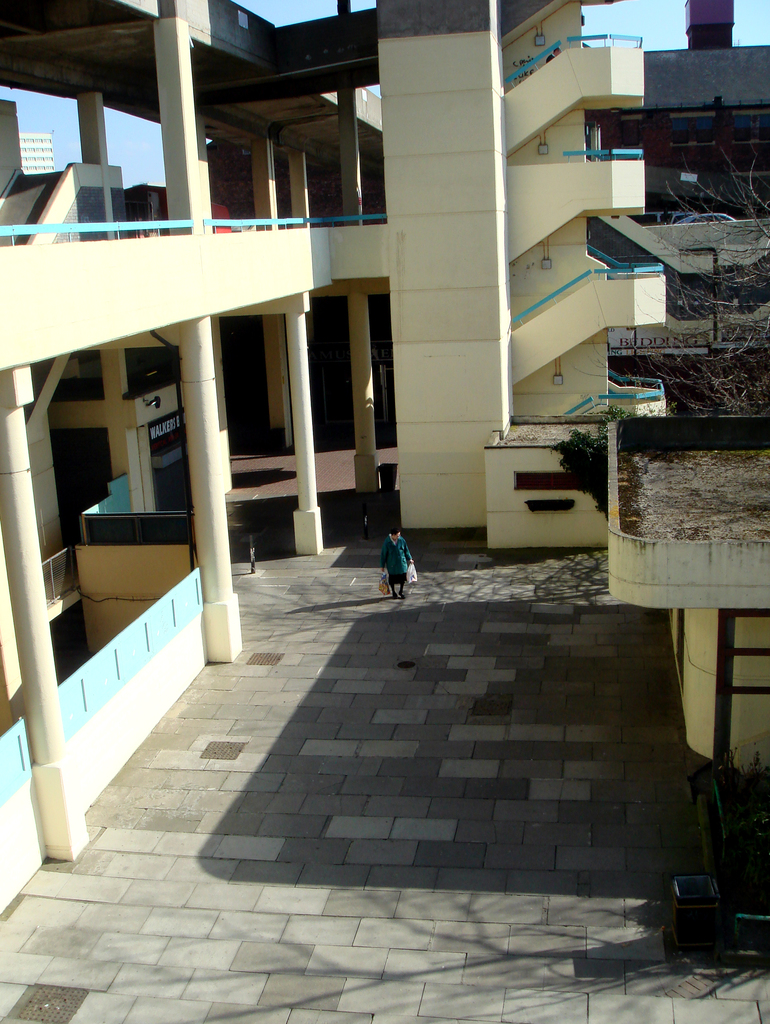Tree: (623, 165, 769, 415)
